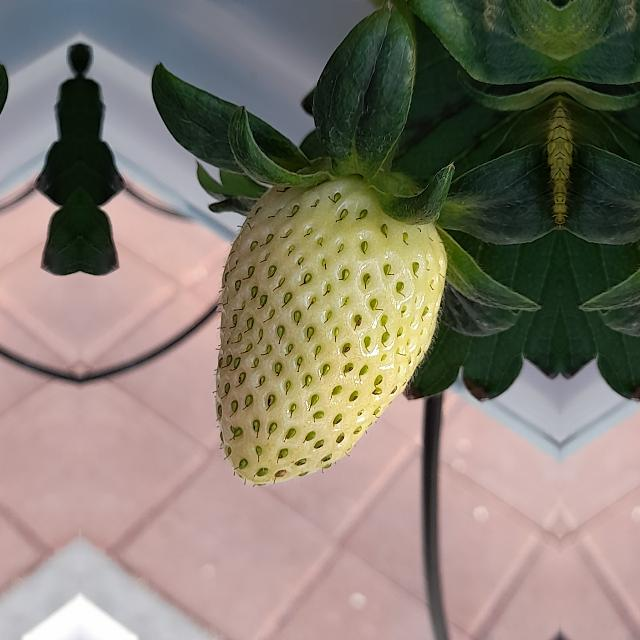Health_25: (210, 176, 448, 487)
